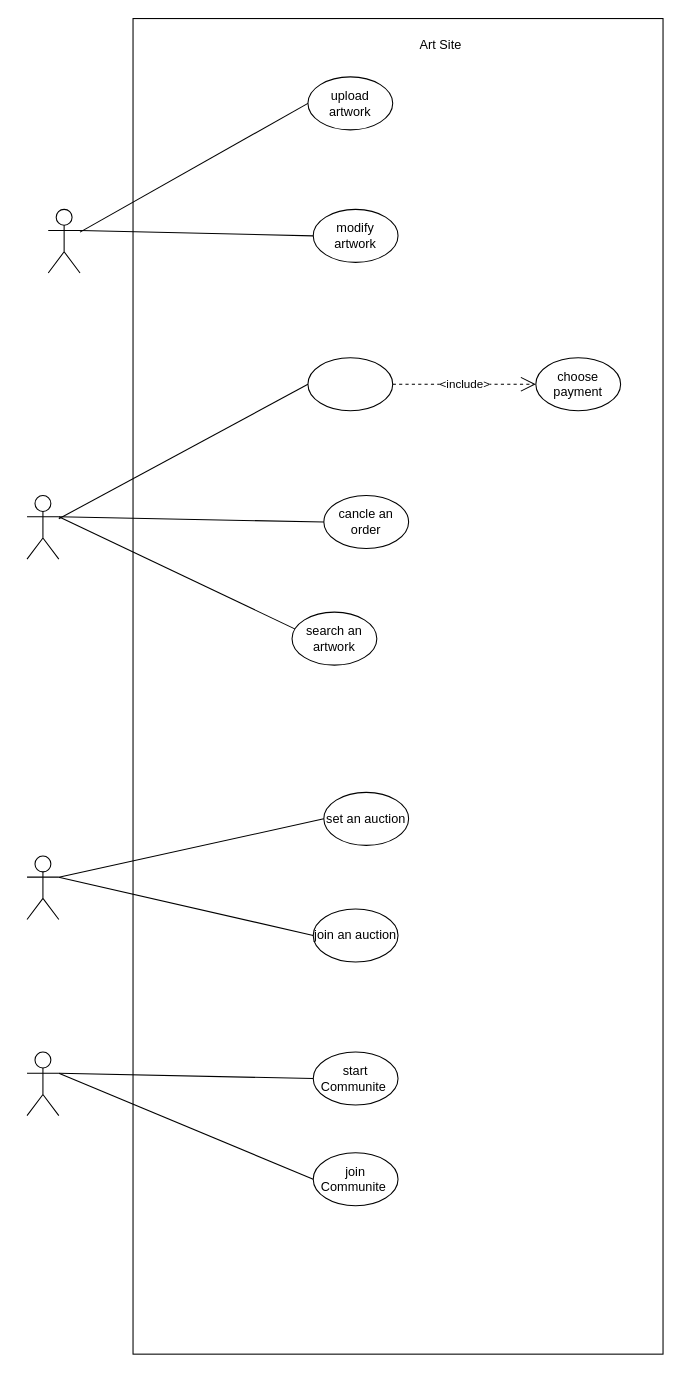
This 682x1373 diagram has some shape labels left out. The box of each missing label's shape, as (x1, y1, x2, y2) in pixels:
Artist: (47, 208, 80, 273)
Buyer: (26, 494, 59, 559)
Collector: (26, 1051, 59, 1116)
Dealer: (26, 855, 59, 920)
make an order: (307, 357, 393, 411)
